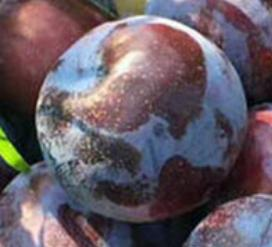plum_B: (35, 15, 250, 225)
